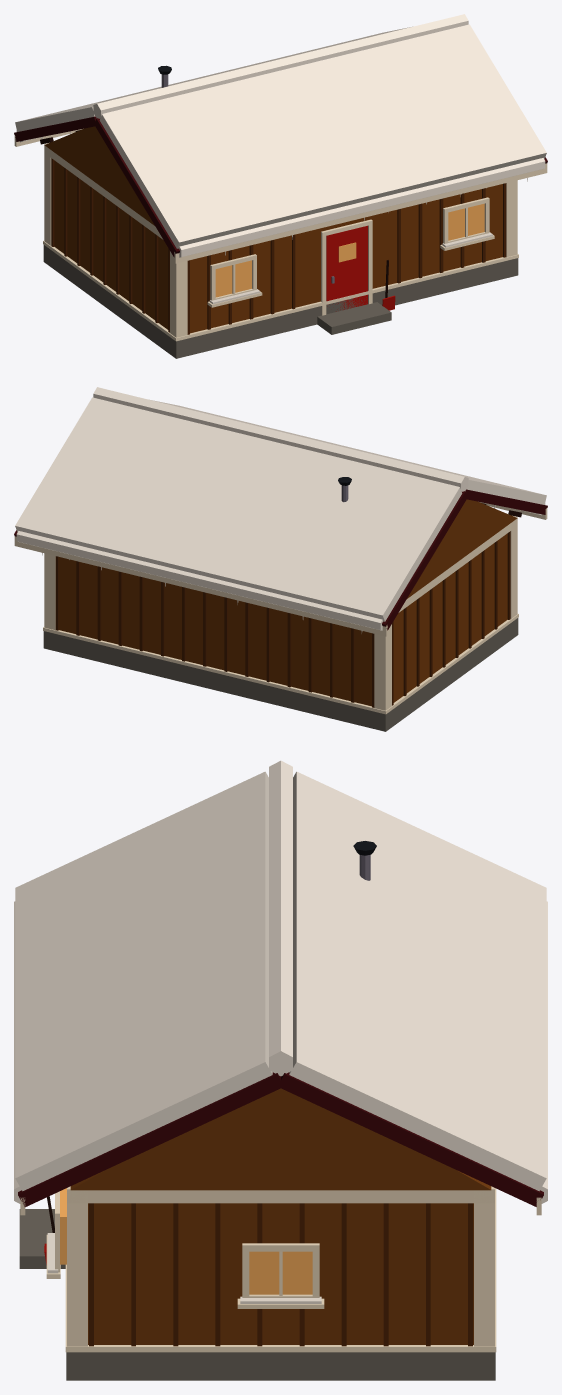
File: rs_equipment.glb
The picture shows the model from 3 angles, top to bottom: view 1: azimuth 30°, elevation 25°; view 2: azimuth 150°, elevation 25°; view 3: azimuth 270°, elevation 25°; orthographic projection. The views are drawn at different scales.
Visible parts, largest first — view 1: equipment; view 2: equipment; view 3: equipment.
Boxes of the visible parts, <box> form: equipment: <box>14,14,547,358</box>; equipment: <box>14,387,547,731</box>; equipment: <box>14,760,547,1380</box>.
Bounding box in the file's own units: 9.9 × 5.34 × 7.61.
